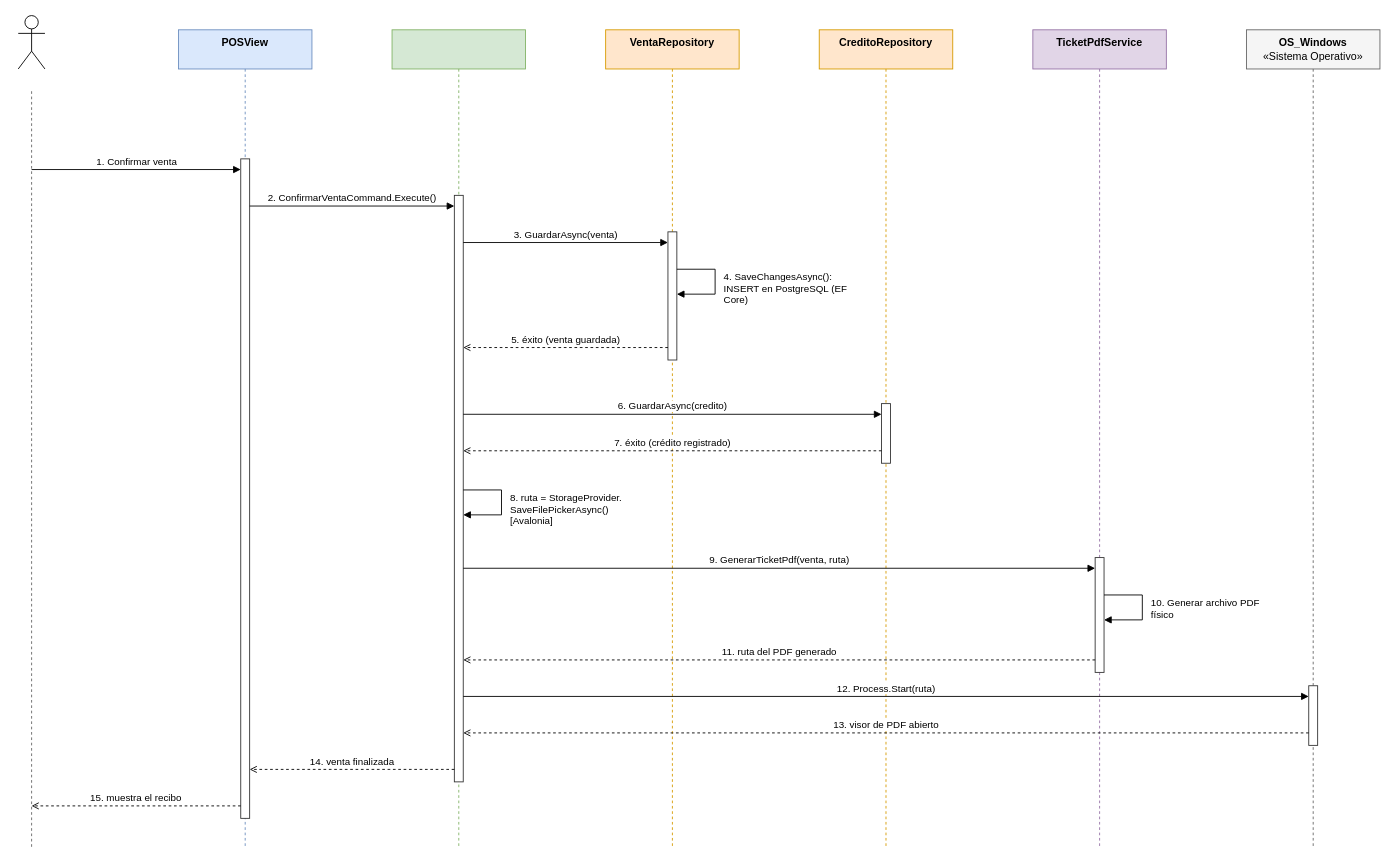
This 1396x865 diagram has some shape labels left out. Here are the shapes that lost their labels. From the top down, the box of each, then its label:
(17, 15, 45, 69): Cajero
(391, 29, 526, 849): PosViewModel
